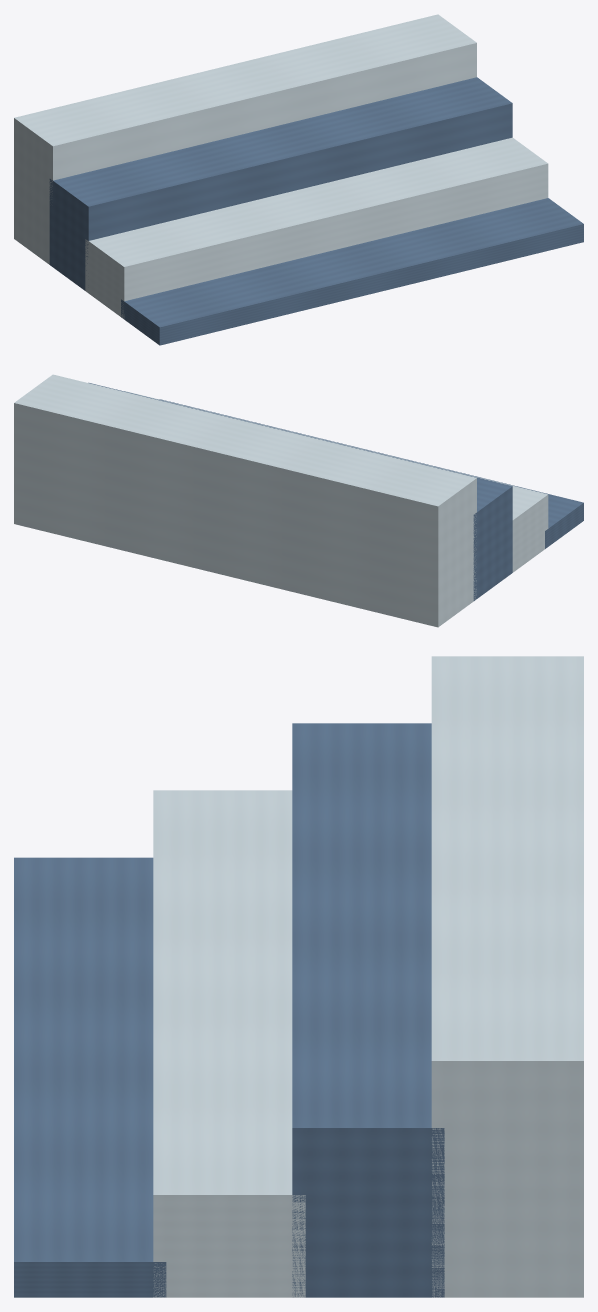
Rendered from atlas100-s051-a10.lod2.glb.
3 renders of one model, top to bottom at view 1: azimuth 30°, elevation 25°; view 2: azimuth 150°, elevation 25°; view 3: azimuth 270°, elevation 25°, orthographic. The views are drawn at different scales.
Visible parts, largest first — view 1: atlas100-s051-a10:part-003, atlas100-s051-a10:part-002, atlas100-s051-a10:part-001, atlas100-s051-a10:part-000; view 2: atlas100-s051-a10:part-003, atlas100-s051-a10:part-002, atlas100-s051-a10:part-001, atlas100-s051-a10:part-000; view 3: atlas100-s051-a10:part-003, atlas100-s051-a10:part-002, atlas100-s051-a10:part-001, atlas100-s051-a10:part-000.
Part boxes in pixels (box(x1,y1,x2,y2)): atlas100-s051-a10:part-003: box(14, 14, 476, 264); atlas100-s051-a10:part-002: box(49, 77, 512, 290); atlas100-s051-a10:part-001: box(85, 137, 548, 319); atlas100-s051-a10:part-000: box(121, 198, 583, 345); atlas100-s051-a10:part-003: box(14, 374, 476, 627); atlas100-s051-a10:part-002: box(88, 382, 512, 600); atlas100-s051-a10:part-001: box(124, 391, 548, 572); atlas100-s051-a10:part-000: box(159, 399, 583, 548); atlas100-s051-a10:part-003: box(431, 656, 583, 1297); atlas100-s051-a10:part-002: box(292, 723, 444, 1297); atlas100-s051-a10:part-001: box(153, 790, 305, 1297); atlas100-s051-a10:part-000: box(14, 857, 166, 1297).
Bounding box in the file's own units: 2.2 × 0.6 × 1.31.
Materials: 2 (2 with a texture image).
